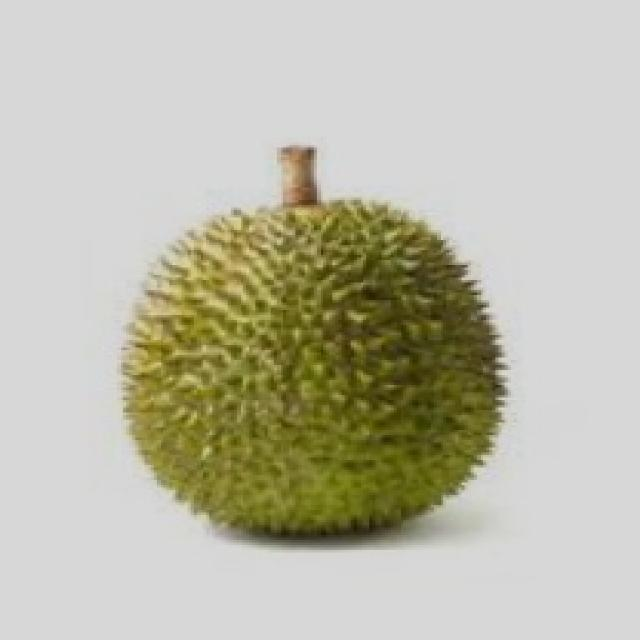fruit: (74, 170, 483, 588)
